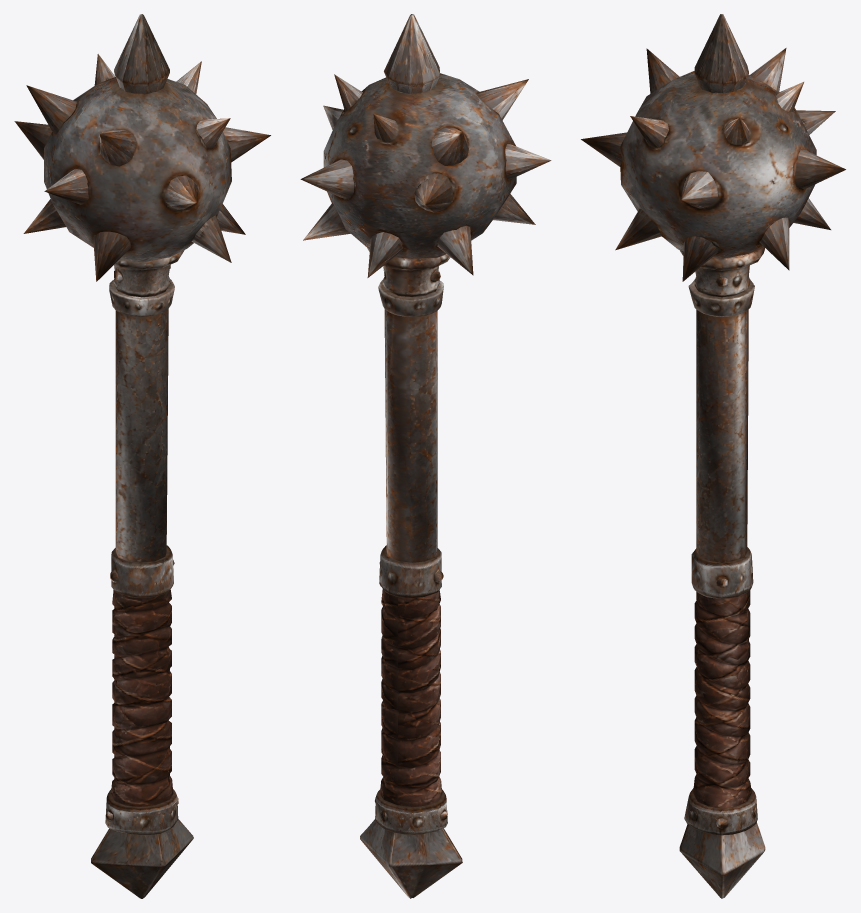
The model's file is SM_H1Mace.fbx.
3 views of the same model, side by side, from view 1: azimuth 30°, elevation 25°; view 2: azimuth 150°, elevation 25°; view 3: azimuth 270°, elevation 25° (orthographic).
Visible parts, largest first — view 1: SM_H1Mace; view 2: SM_H1Mace; view 3: SM_H1Mace.
Boxes of the visible parts, <box> form: SM_H1Mace: <box>14,14,270,898</box>; SM_H1Mace: <box>300,14,551,898</box>; SM_H1Mace: <box>581,14,845,898</box>.
Bounding box in the file's own units: 0.1538 × 0.5695 × 0.1556.
